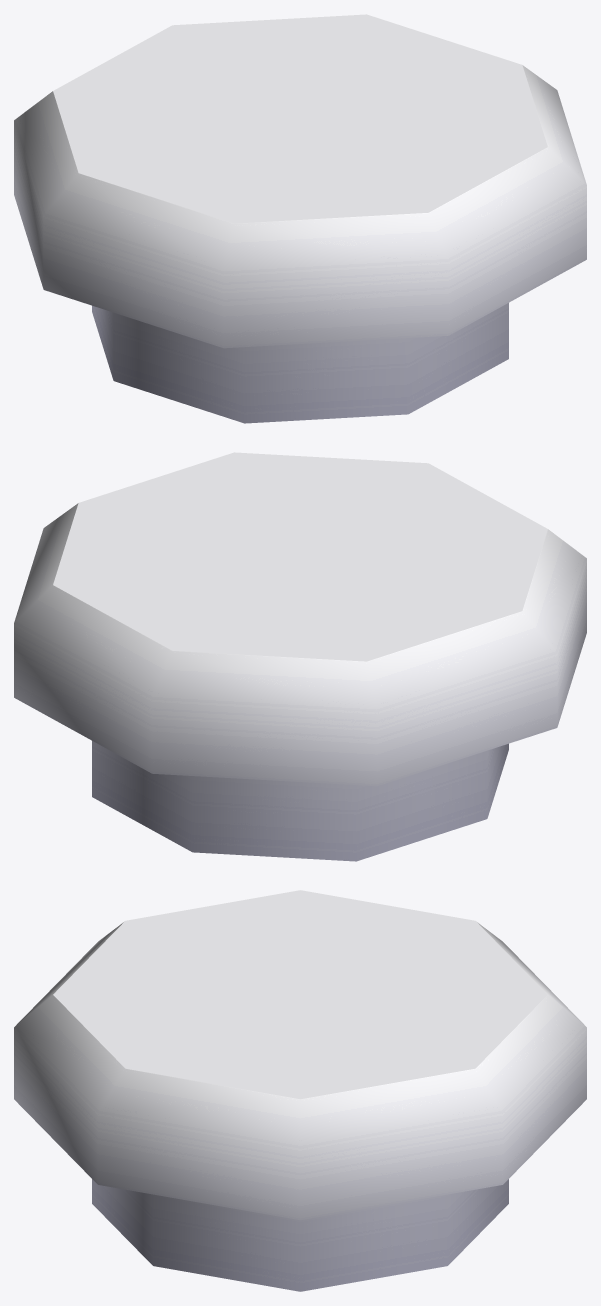
The model's file is brick-kit--none-hq-plate-1x1-round.glb.
The picture shows the model from 3 angles, top to bottom: view 1: azimuth 30°, elevation 25°; view 2: azimuth 150°, elevation 25°; view 3: azimuth 270°, elevation 25°; orthographic projection. The views are drawn at different scales.
Parts seen in each view (by area): view 1: none-hq-plate-1x1-round; view 2: none-hq-plate-1x1-round; view 3: none-hq-plate-1x1-round.
Part boxes in pixels (<box>): none-hq-plate-1x1-round: <box>14,14,586,423</box>; none-hq-plate-1x1-round: <box>14,452,586,861</box>; none-hq-plate-1x1-round: <box>14,890,586,1291</box>.
Size of the model in its own units: 0.0795 by 0.032 by 0.0795.
Materials: 1 (1 with a texture image).
